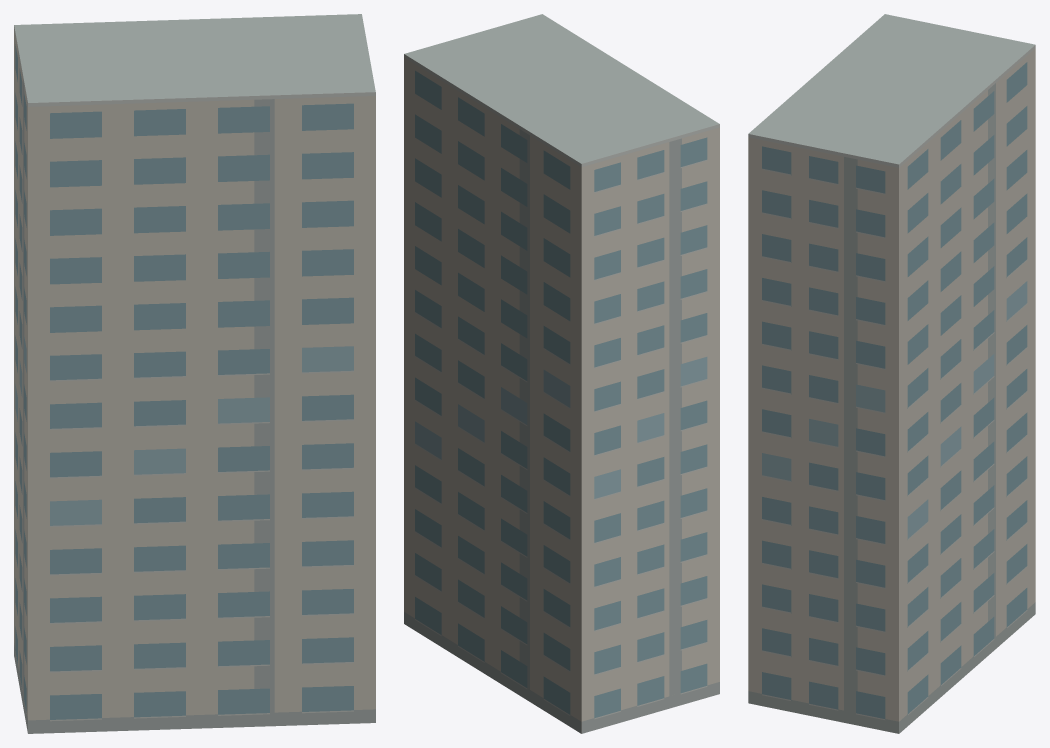
Rendered from residential-9aed221e-b914-41b5-89ab-92bf7c112f4b.glb.
3 renders of one model, left to right at view 1: azimuth 30°, elevation 25°; view 2: azimuth 150°, elevation 25°; view 3: azimuth 270°, elevation 25°, orthographic. The views are drawn at different scales.
Parts seen in each view (by area): view 1: residential-9aed221e-b914-41b5-89ab-92bf7c112f4b.tmp; view 2: residential-9aed221e-b914-41b5-89ab-92bf7c112f4b.tmp; view 3: residential-9aed221e-b914-41b5-89ab-92bf7c112f4b.tmp.
Part boxes in pixels (box(x1,y1,x2,y2)): residential-9aed221e-b914-41b5-89ab-92bf7c112f4b.tmp: box(14, 14, 375, 733); residential-9aed221e-b914-41b5-89ab-92bf7c112f4b.tmp: box(404, 14, 719, 733); residential-9aed221e-b914-41b5-89ab-92bf7c112f4b.tmp: box(748, 14, 1035, 733).
Size of the model in its own units: 23.25 by 41 by 18.77.
